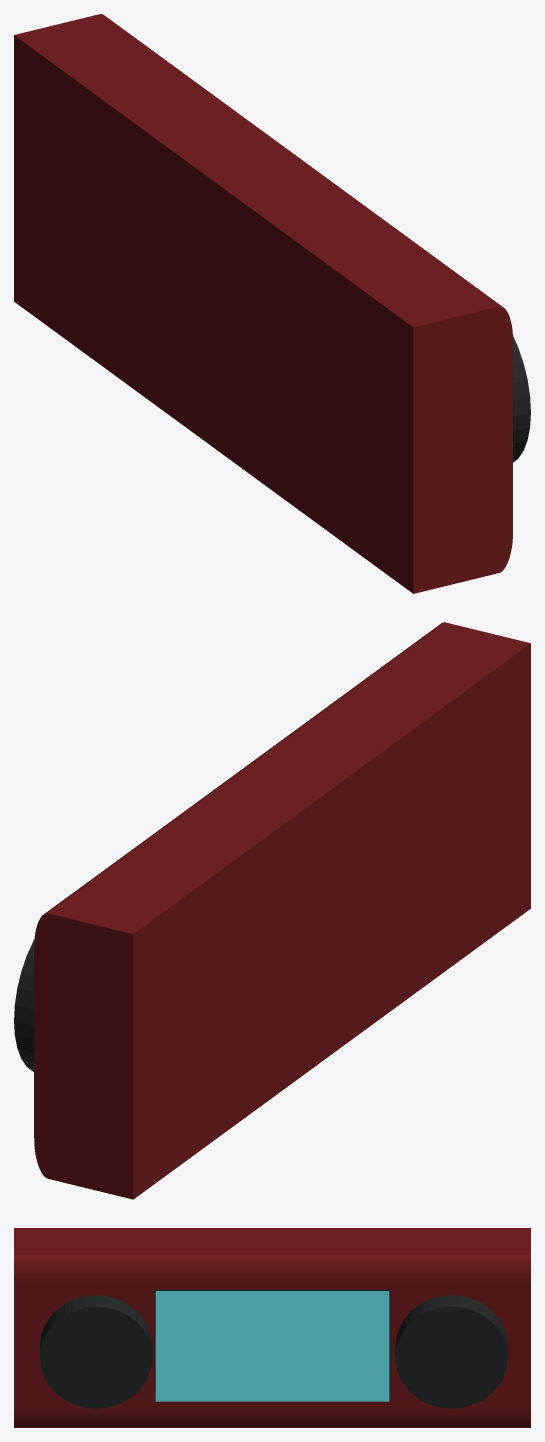
The model's file is Radio.fbx.
3 views of the same model, one above another, from view 1: azimuth 30°, elevation 25°; view 2: azimuth 150°, elevation 25°; view 3: azimuth 270°, elevation 25° (orthographic). The views are drawn at different scales.
Parts seen in each view (by area): view 1: Radio; view 2: Radio; view 3: Radio, Glass.
Part boxes in pixels (x1,y1,x2,y2): Radio: (14, 14, 530, 593); Radio: (14, 622, 530, 1199); Radio: (14, 1228, 530, 1427); Glass: (155, 1291, 389, 1401).
Bounding box in the file's own units: 155 × 286 × 778.
3 materials, 1 textured.
